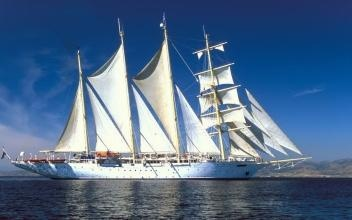fanchuan: (9, 13, 320, 181)
